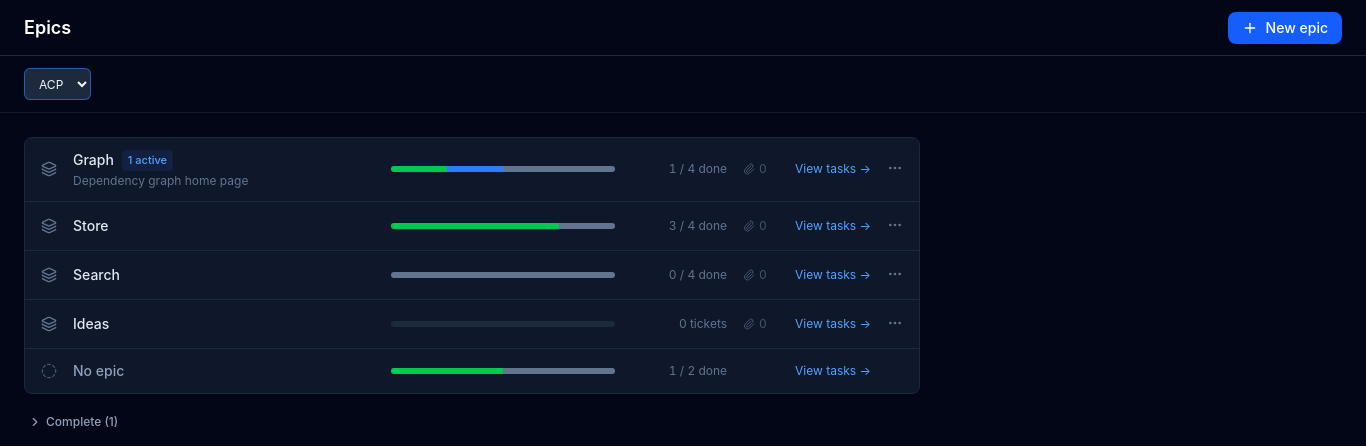
Scenario: Epics rows › closes an open row menu when another row's ⋯ is clicked
The image size is (1366, 446).
Click the button named "Actions for Store".
click(895, 224)  # box x1=883 y1=212 x2=907 y2=236
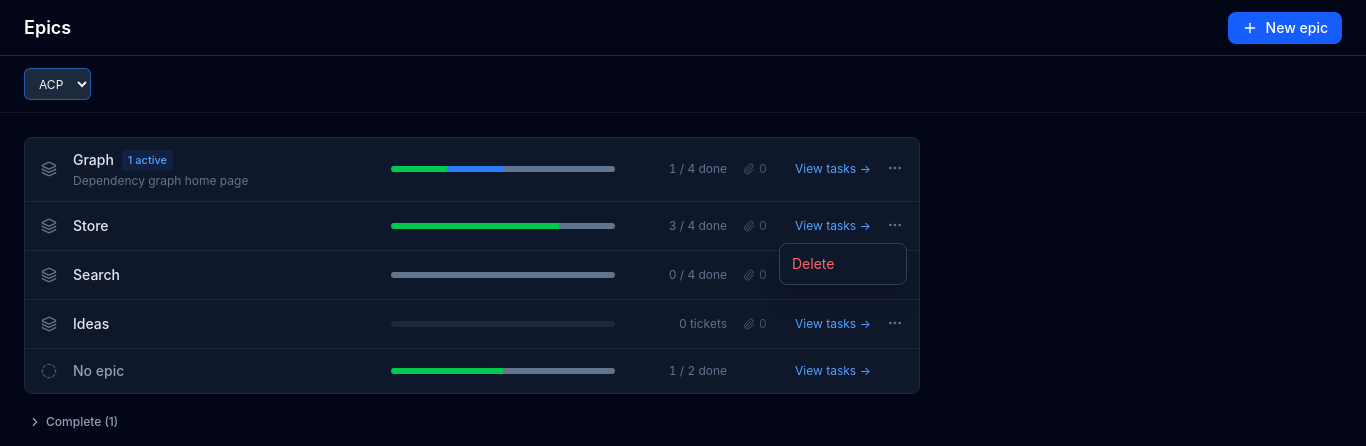
Click the button named "Actions for Graph".
click(895, 168)  # box x1=883 y1=156 x2=907 y2=180
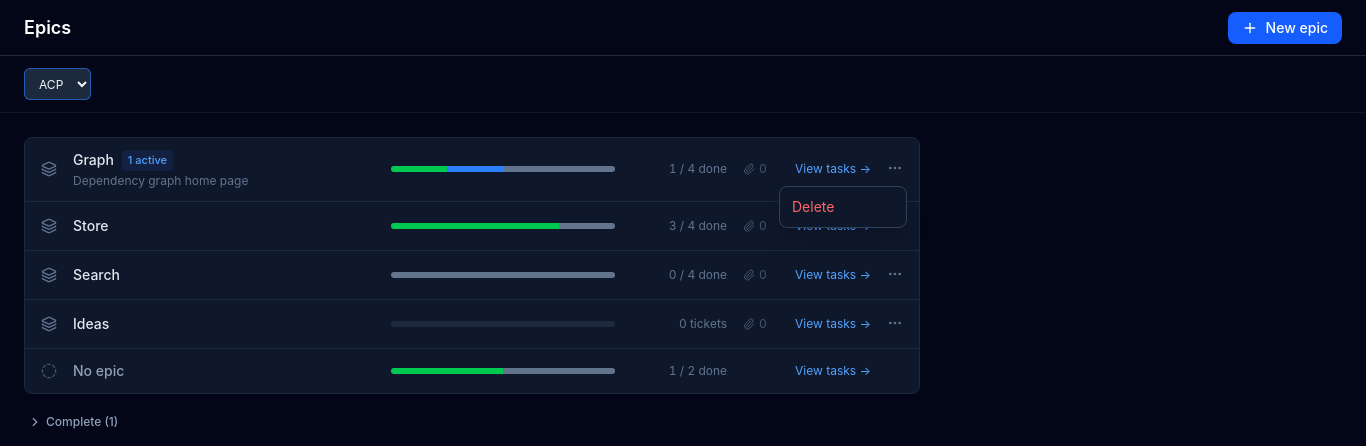
Now the number of buttons "Delete" is 1, box x1=780 y1=191 x2=906 y2=223
Now the button named "Actions for Store" is collapsed, box x1=883 y1=212 x2=907 y2=236
